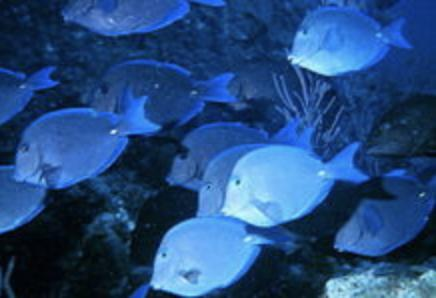Acanthuridae -Surgeonfishes-: (12, 95, 164, 190), (149, 216, 315, 294), (220, 140, 367, 226), (285, 3, 413, 76), (61, 0, 226, 38)
